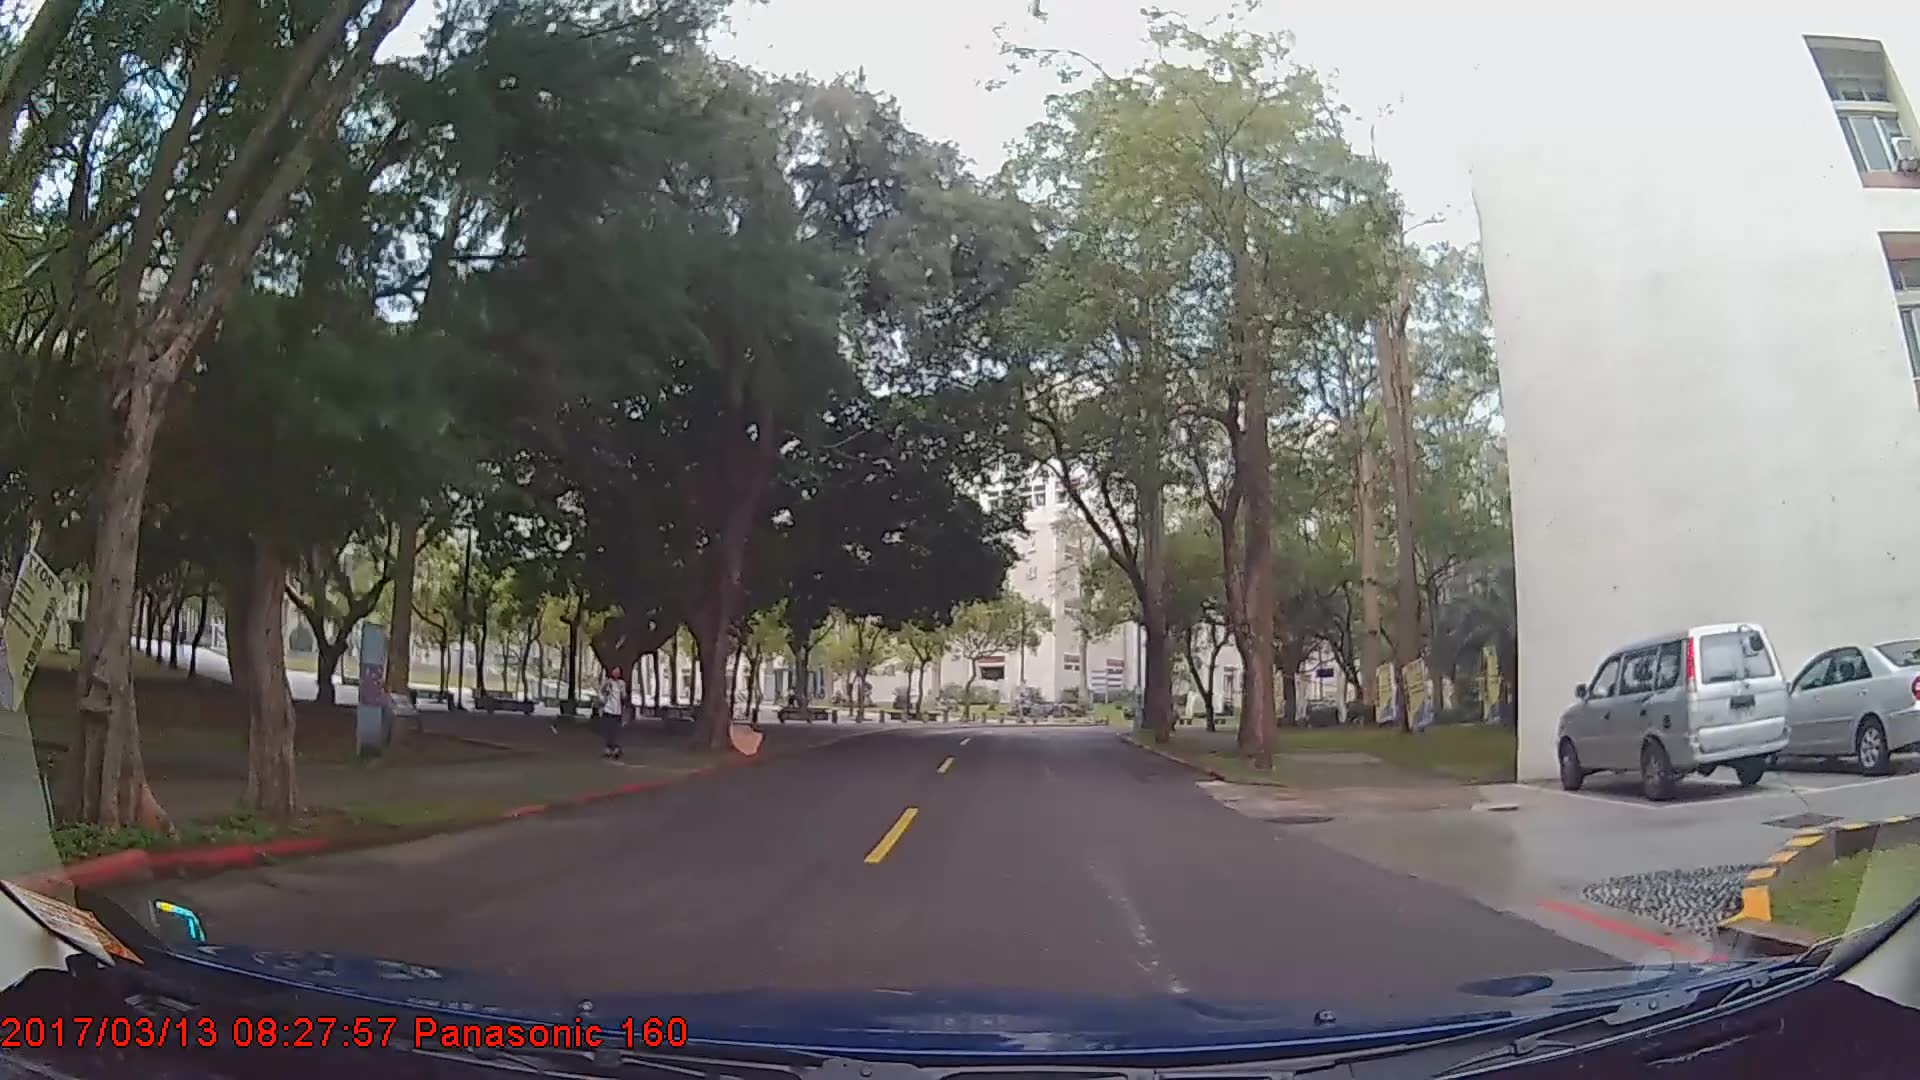pedestrian: (593, 659, 631, 760)
vehicle: (1554, 615, 1788, 795), (1746, 635, 1920, 773)
